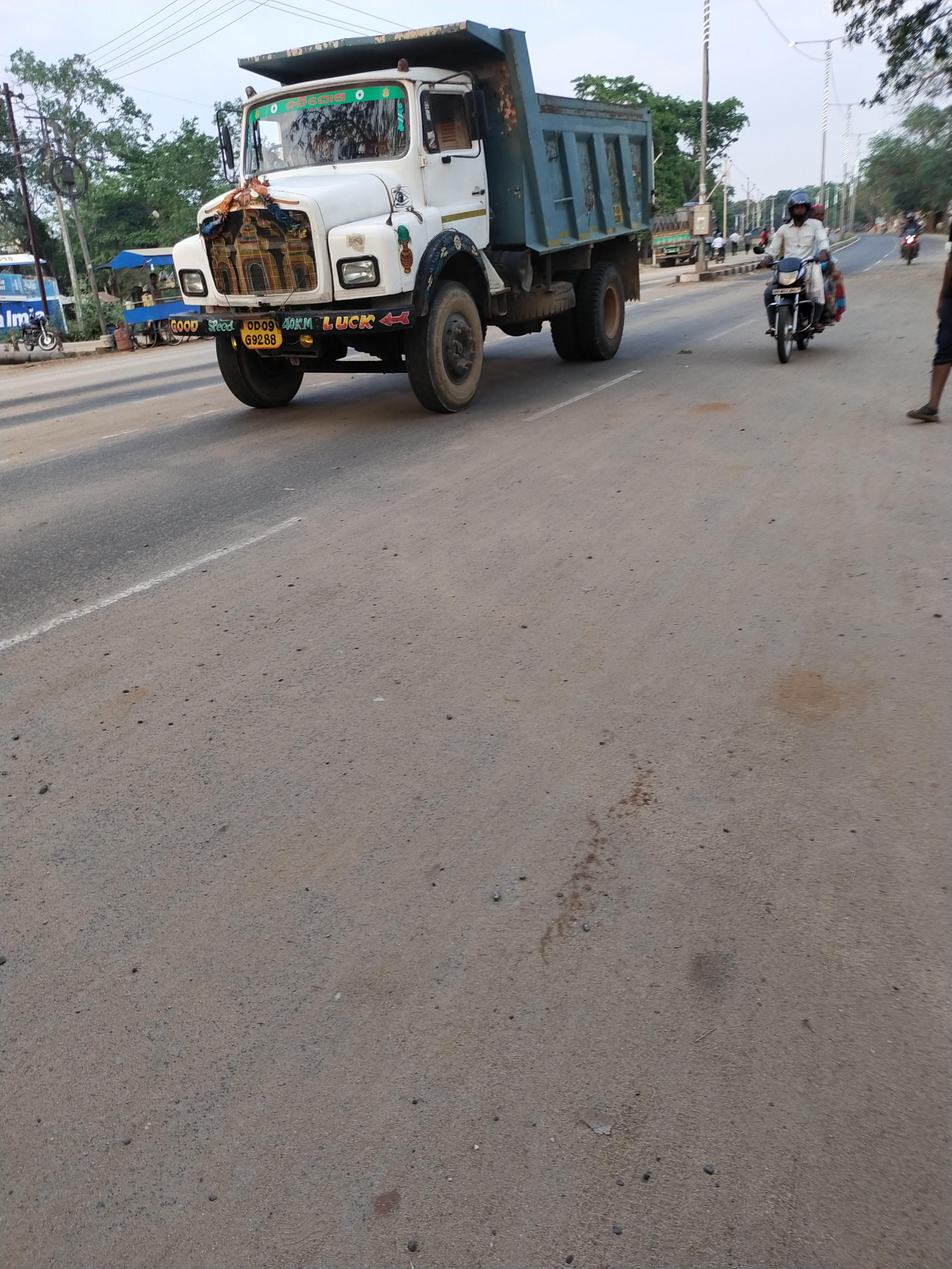Non-emergency: (115, 0, 673, 433)
